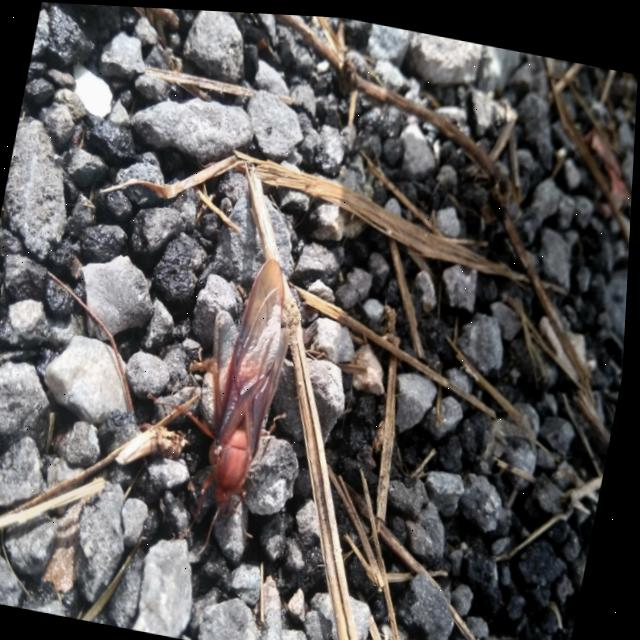Alive-Male-Alate: (124, 235, 319, 566)
